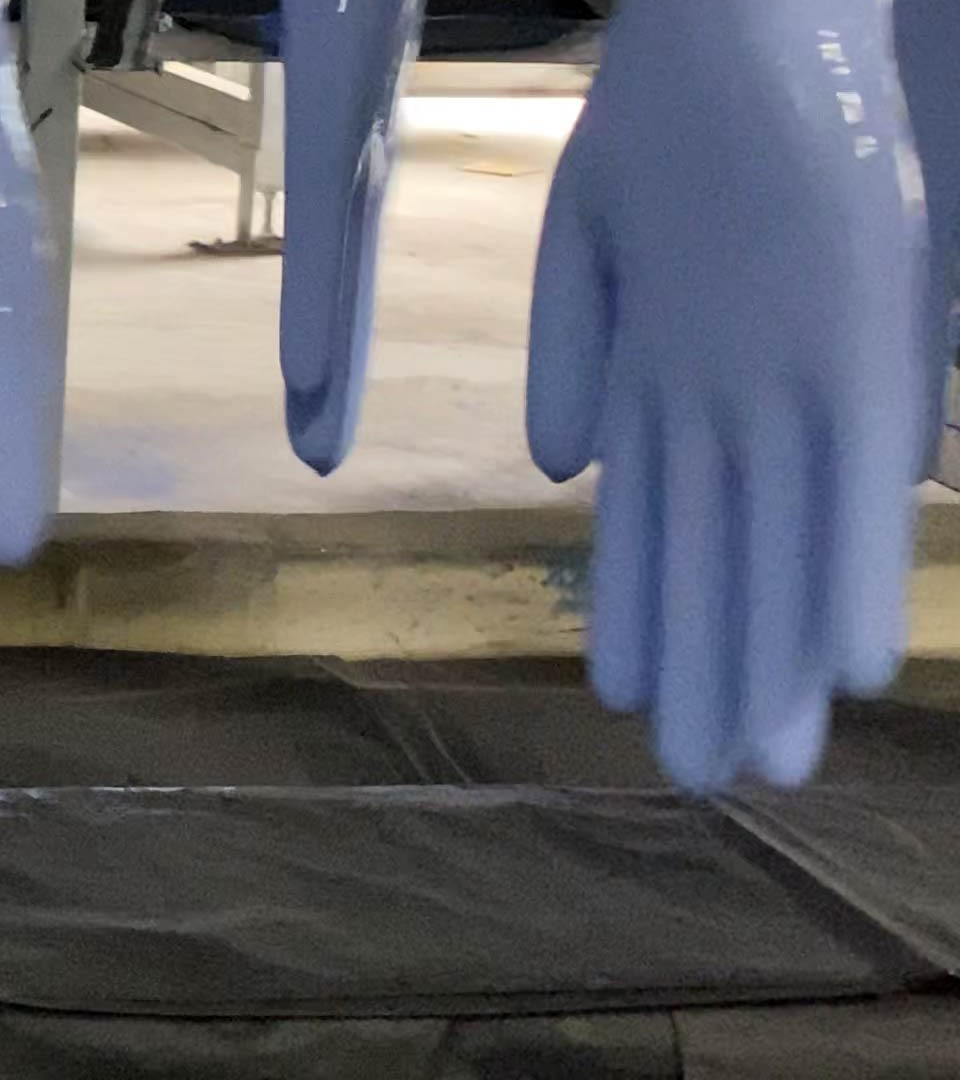glove: (530, 1, 943, 805), (274, 1, 409, 476)
